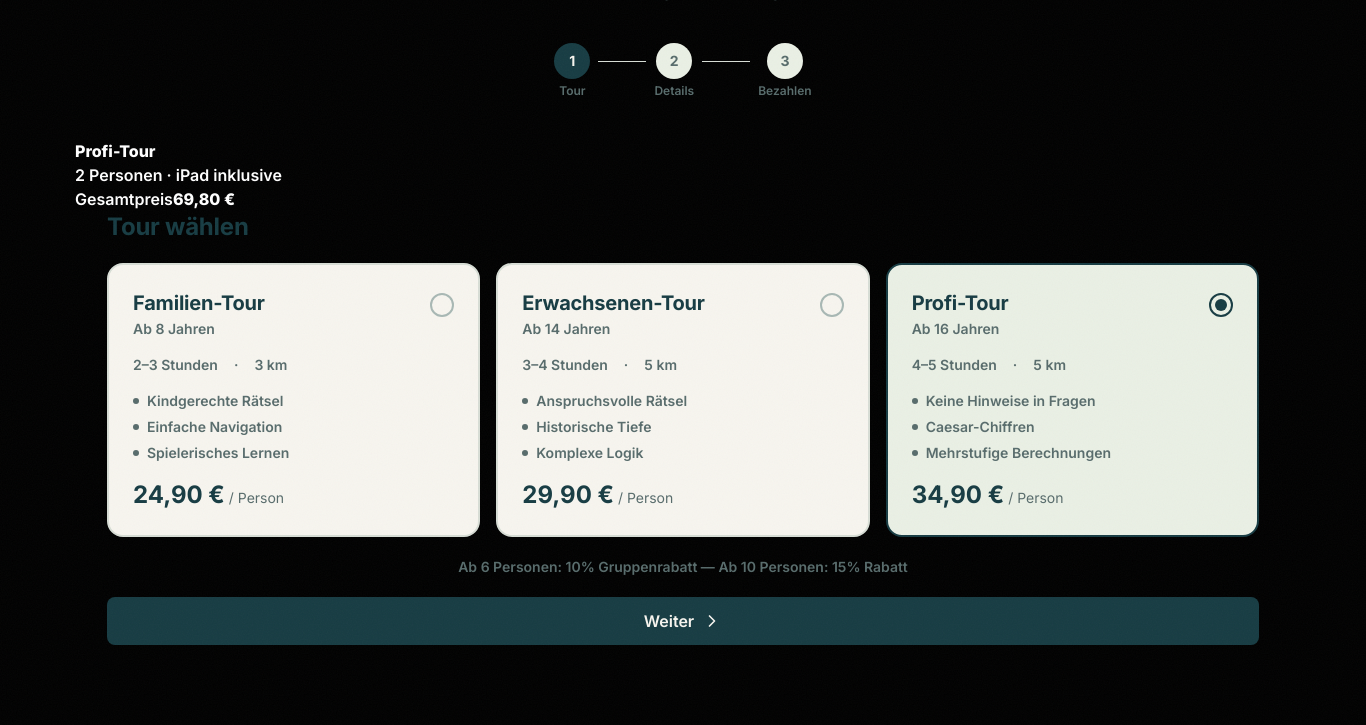
Test case: Booking selection and running total › shows the selected tour and total in the final summary without starting payment
The width and height of the screenshot is (1366, 725).
(page scrolled)
Click the button "Weiter" at (683, 621), box [107,597,1259,645]
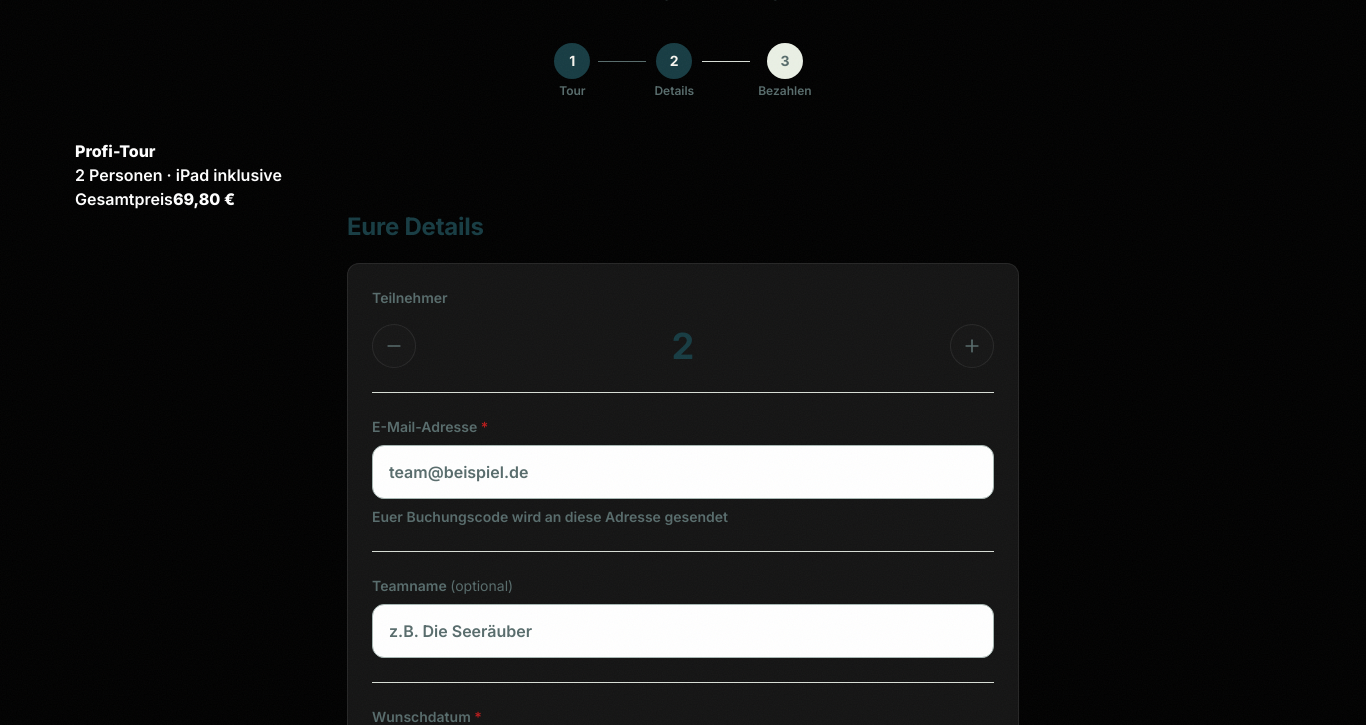
Type "preview@example.com" into the field labelled "E-Mail-Adresse *" at (683, 472), box [372,445,994,499]
(page scrolled)
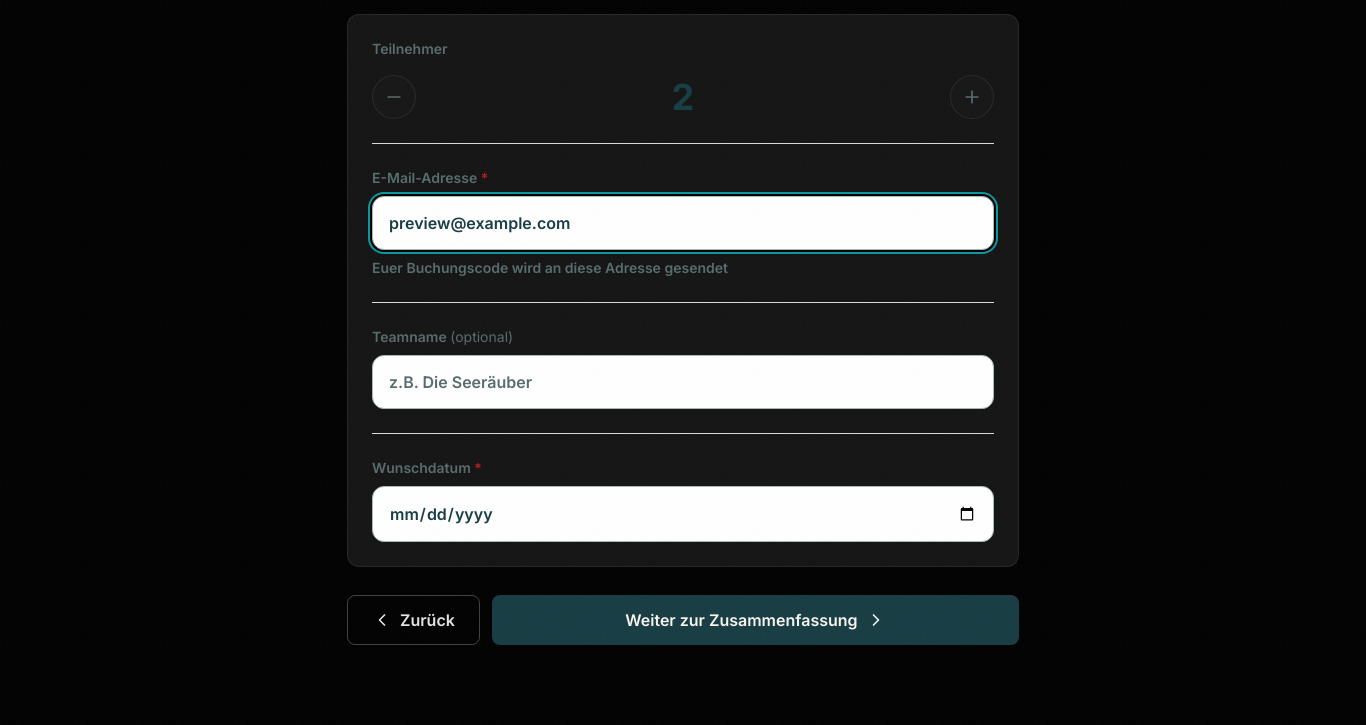
Type "2026-12-20" into the date field labelled "Wunschdatum *" at (683, 514), box [372,486,994,542]
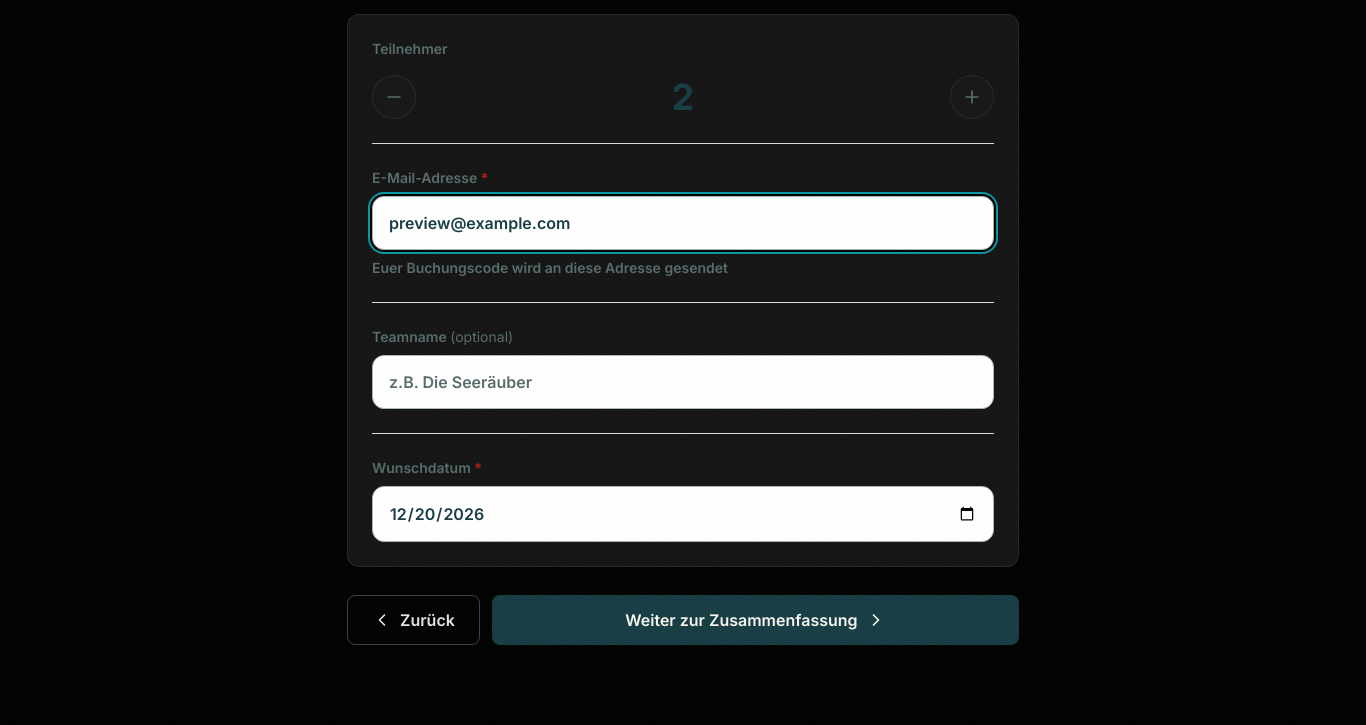
Click the button "Weiter zur Zusammenfassung" at (755, 620), box [492,595,1019,645]
(page scrolled)
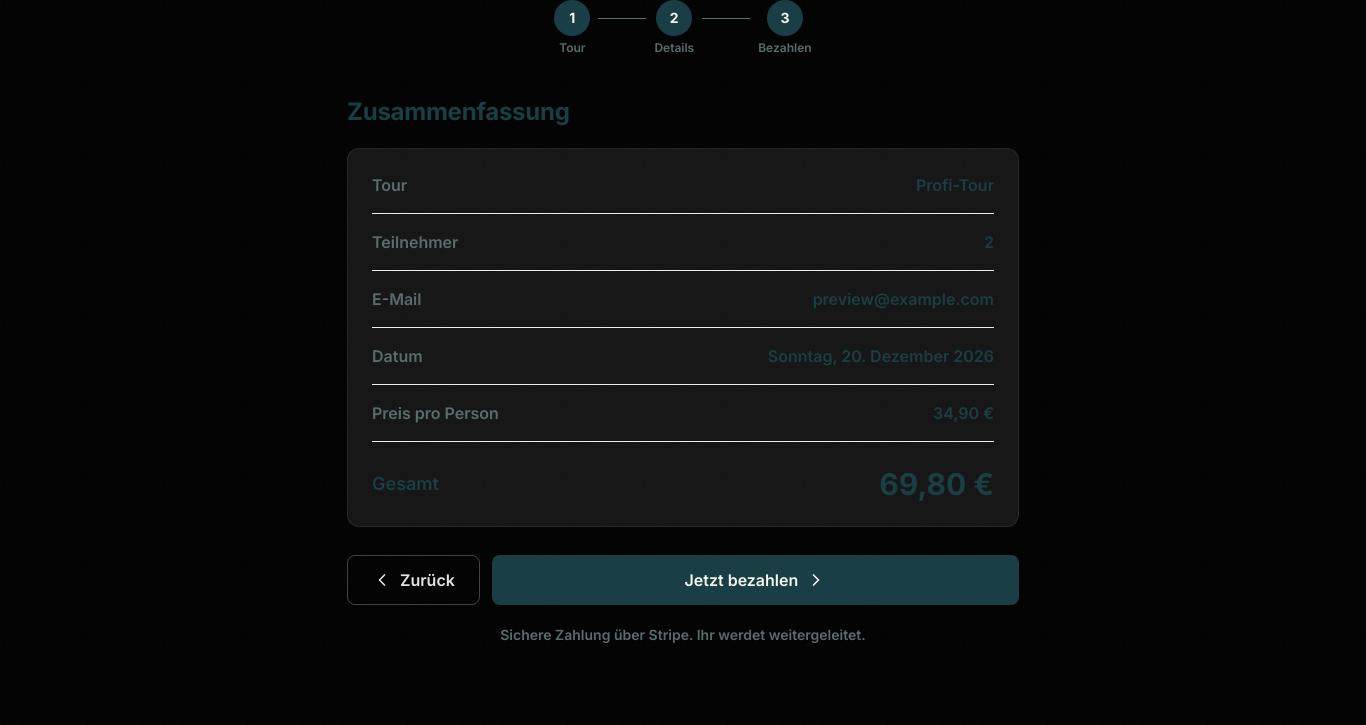
Check: the button "Jetzt bezahlen" is enabled, box [492,555,1019,605]
Check: the heading "Zusammenfassung" is shown, box [347,97,570,126]
Check: the text "69,80 €" is shown, box [879,466,994,502]
